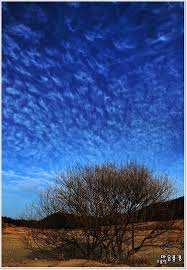sky: (3, 4, 187, 223)
tree: (39, 168, 173, 263)
